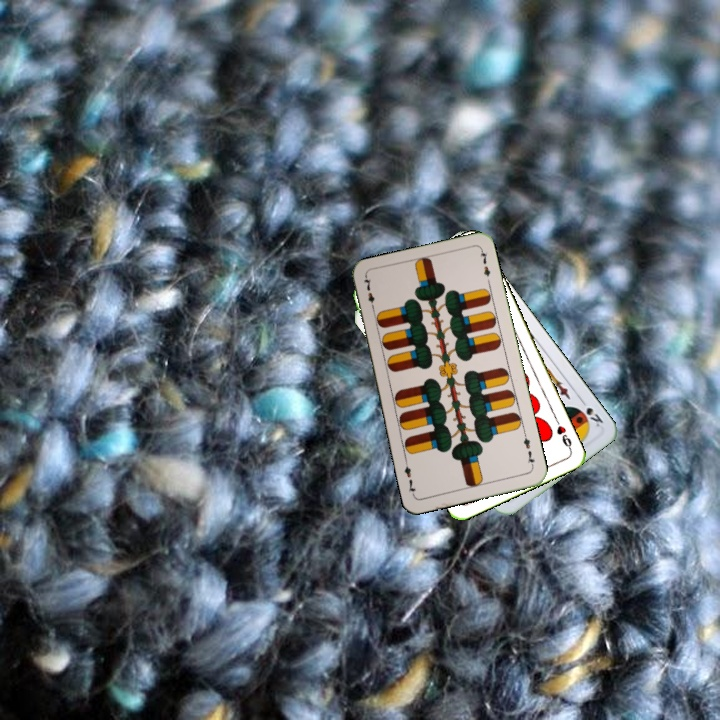E7: (519, 430, 538, 470), (360, 274, 377, 314)
H9: (551, 415, 574, 453)
SK: (576, 394, 606, 430)
